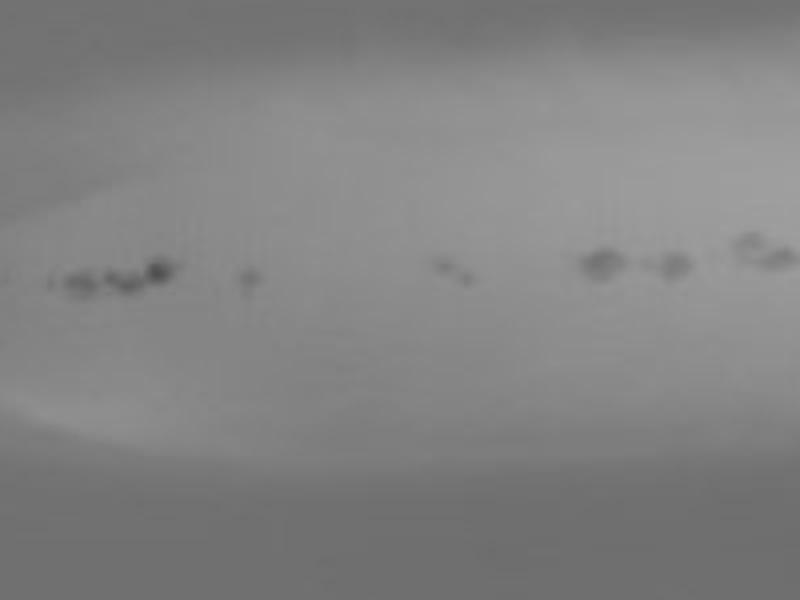defect: (577, 244, 624, 282), (104, 266, 146, 300), (653, 247, 691, 284), (754, 248, 800, 272), (66, 266, 99, 299), (729, 227, 763, 252), (143, 257, 175, 283), (236, 267, 260, 291), (429, 252, 456, 272), (454, 265, 475, 288)
